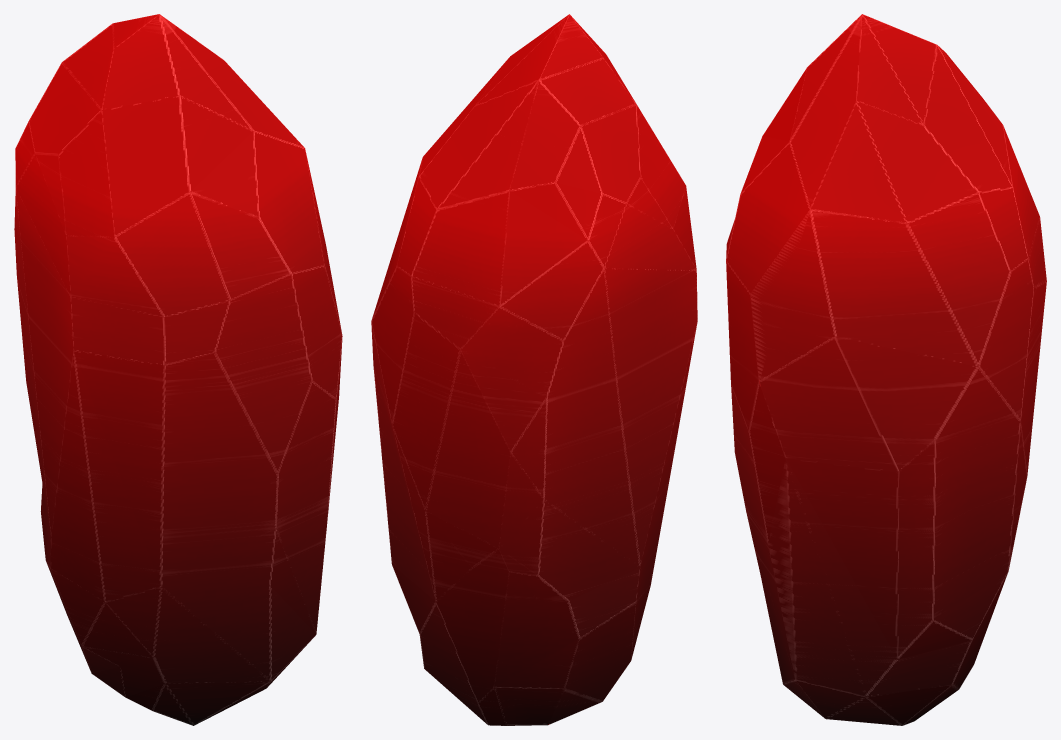
File: crystal_paint.glb
The picture shows the model from 3 angles, left to right: view 1: azimuth 30°, elevation 25°; view 2: azimuth 150°, elevation 25°; view 3: azimuth 270°, elevation 25°; orthographic projection. The views are drawn at different scales.
Parts seen in each view (by area): view 1: crystal; view 2: crystal; view 3: crystal.
Boxes of the visible parts, x1,y1,x2,y2 form: crystal: [14, 14, 342, 725]; crystal: [371, 14, 697, 725]; crystal: [726, 14, 1046, 725].
Size of the model in its own units: 0.7126 by 1.81 by 0.7671.
1 material, 1 textured.
